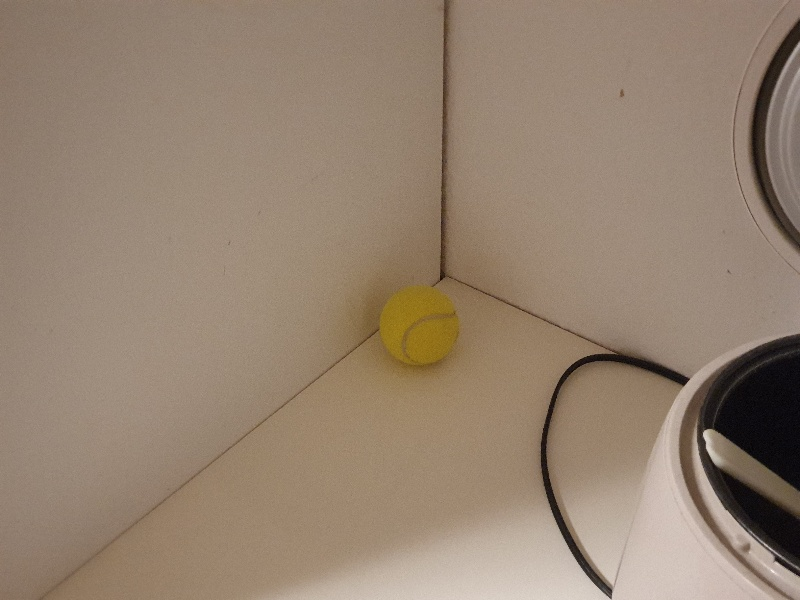Tennisball: (373, 279, 469, 375)
